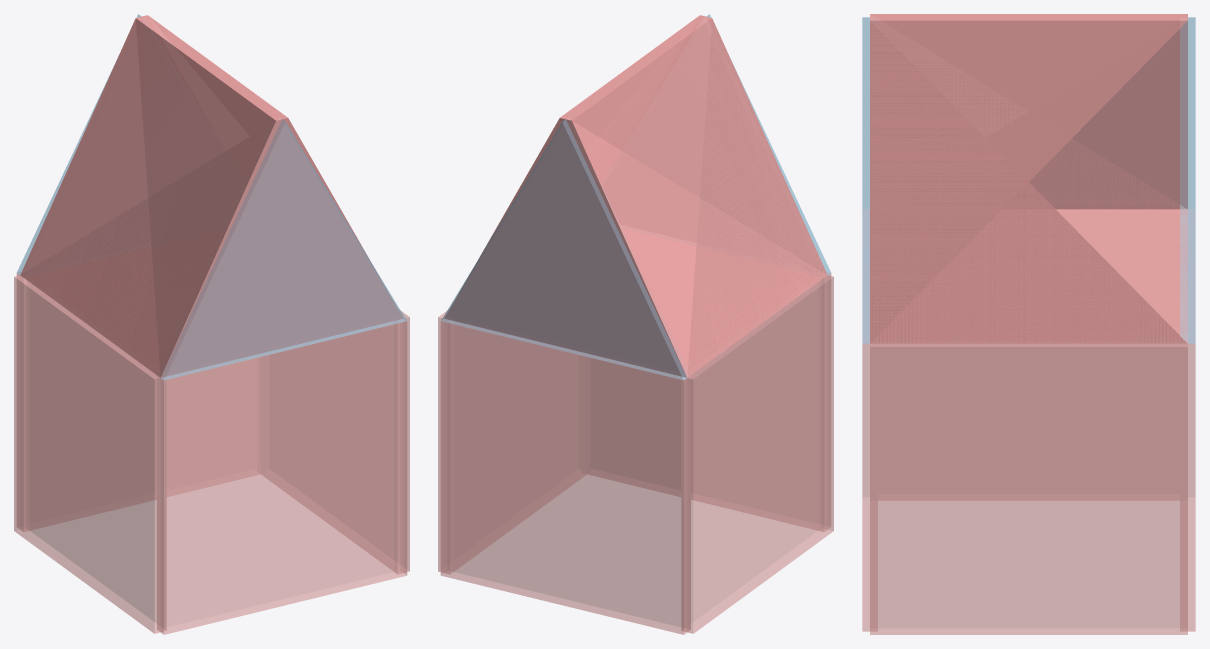
The model's file is casa_step9.glb.
The picture shows the model from 3 angles, left to right: view 1: azimuth 30°, elevation 25°; view 2: azimuth 150°, elevation 25°; view 3: azimuth 270°, elevation 25°; orthographic projection. The views are drawn at different scales.
Visible parts, largest first — view 1: roof_W, qN, roof_E, qW, qS, gable_N, qE, gable_S; view 2: roof_W, qS, roof_E, qW, qN, gable_S, qE, gable_N; view 3: roof_E, roof_W, qE, qW, qN, qS, gable_S, gable_N.
Part boxes in pixels (x1,y1,x2,y2): roof_W: [20, 15, 402, 377]; qN: [157, 319, 407, 634]; roof_E: [21, 15, 402, 377]; qW: [14, 275, 166, 633]; qS: [16, 272, 259, 531]; gable_N: [161, 119, 406, 380]; qE: [261, 310, 409, 574]; gable_S: [17, 14, 141, 274]; roof_W: [445, 15, 827, 377]; qS: [440, 319, 690, 634]; roof_E: [445, 15, 827, 377]; qW: [681, 275, 833, 633]; qN: [588, 272, 831, 531]; gable_S: [441, 119, 686, 380]; qE: [438, 310, 586, 574]; gable_N: [706, 14, 830, 274]; roof_E: [870, 14, 1187, 343]; roof_W: [870, 14, 1187, 343]; qE: [870, 343, 1187, 634]; qW: [878, 344, 1179, 500]; qN: [862, 209, 877, 631]; qS: [1180, 209, 1195, 631]; gable_S: [1180, 17, 1195, 343]; gable_N: [862, 17, 869, 343].
Size of the model in its own units: 1.05 by 1.9 by 1.05.
